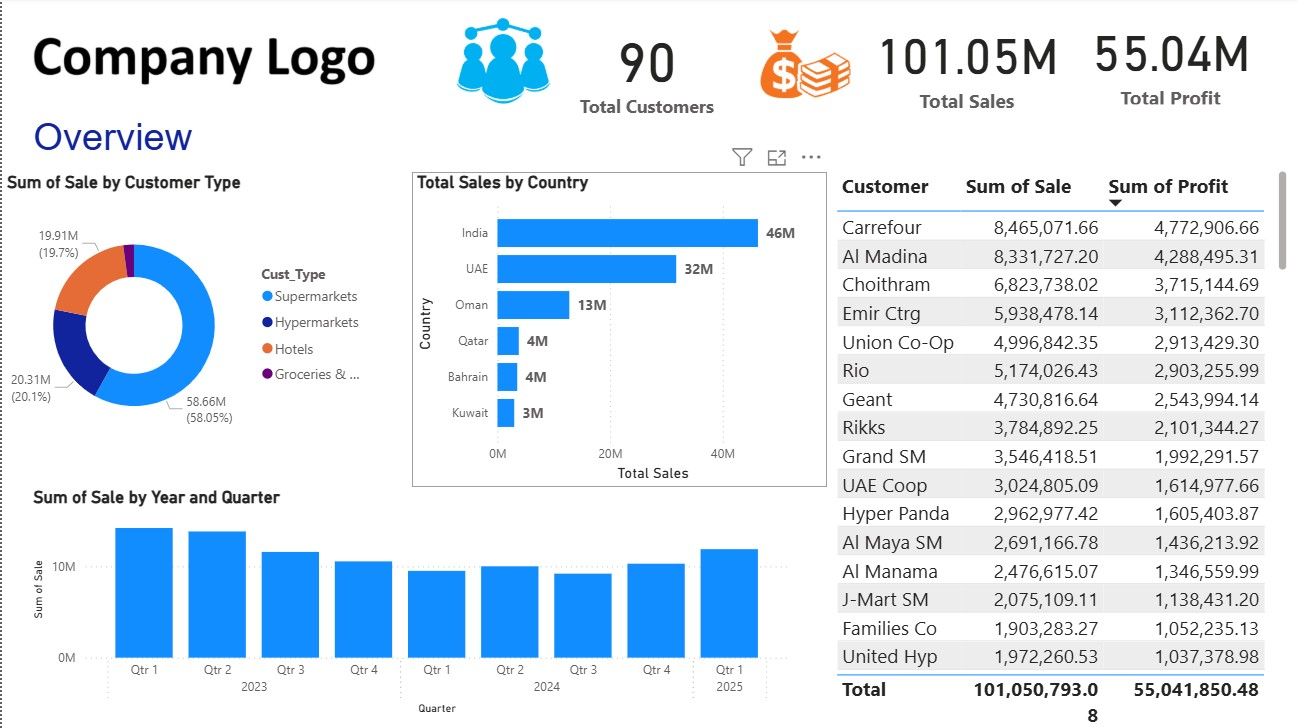

The dashboard page shown, as its layout file describes it:
{"tool":"powerbi","page":{"name":"Overview","canvas":[1280,720],"ordinal":0},"visuals":[{"type":"textbox","box":[25.7,110.1,207.9,57.5],"z":0},{"type":"card","fields":{"Values":["Count(Transactions.Customer)"]},"box":[544.2,13.5,173.6,110.1],"z":1000},{"type":"image","box":[426.8,15.9,127.2,94.2],"z":2000},{"type":"image","box":[730,26.9,111.3,77],"z":3000},{"type":"card","fields":{"Values":["Sum(Transactions.Sale)"]},"box":[841.3,15.9,205.4,99],"z":4000},{"type":"card","fields":{"Values":["Sum(Transactions.Profit)"]},"box":[1037,14.7,212.8,95.4],"z":5000},{"type":"tableEx","fields":{"Values":["Transactions.Customer","Sum(Transactions.Sale)","Sum(Transactions.Profit)"]},"box":[810.8,164.5,451.6,555.5],"z":6000},{"type":"donutChart","title":"Sum of Sale by Customer Type","fields":{"Y":["Sum(Transactions.Sale)"],"Category":["Transactions.Cust_Type"]},"box":[0,171.2,365.6,281.3],"z":7000},{"type":"image","box":[1.2,15.9,398.6,88],"z":8000},{"type":"clusteredColumnChart","fields":{"Y":["Sum(Transactions.Sale)"],"Category":["Transactions.Month.Variation.Date Hierarchy.Year","Transactions.Month.Variation.Date Hierarchy.Quarter"]},"box":[26,479,748.8,228],"z":11000},{"type":"clusteredBarChart","fields":{"Y":["Sum(Transactions.Sale)"],"Category":["Transactions.Country"]},"box":[401.1,171.7,405.4,307.3],"z":12000}]}

Visuals, with their boxes in screenshot pixels (x1, y1, x2, y2), scaled from the page's 1280x720 canvas onto the 1298x728 screenshot:
textbox: bbox(26, 111, 237, 169)
card - Count(Transactions.Customer): bbox(552, 14, 728, 125)
image: bbox(433, 16, 562, 111)
image: bbox(740, 27, 853, 105)
card - Sum(Transactions.Sale): bbox(853, 16, 1061, 116)
card - Sum(Transactions.Profit): bbox(1052, 15, 1267, 111)
tableEx - Transactions.Customer x Sum(Transactions.Sale): bbox(822, 166, 1280, 727)
"Sum of Sale by Customer Type" donutChart: bbox(0, 173, 371, 458)
image: bbox(1, 16, 405, 105)
clusteredColumnChart - Sum(Transactions.Sale) x Transactions.Month.Variation.Date Hierarchy.Year: bbox(26, 484, 786, 715)
clusteredBarChart - Sum(Transactions.Sale) x Transactions.Country: bbox(407, 174, 818, 484)
